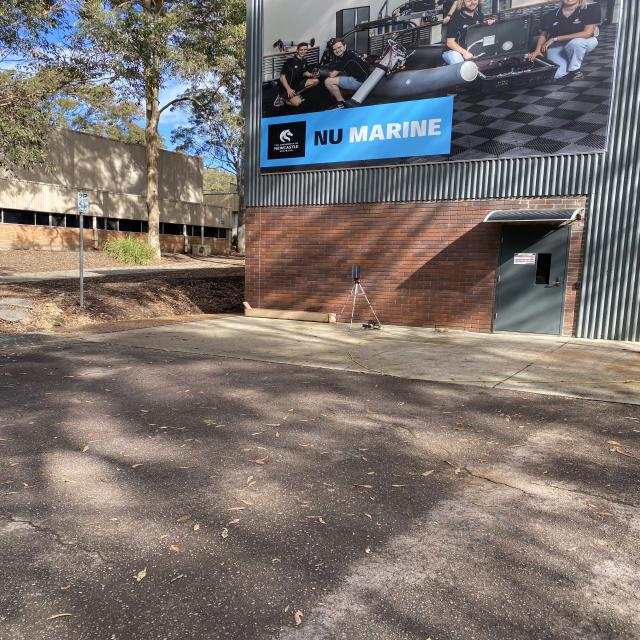matrix: (349, 264, 365, 280)
